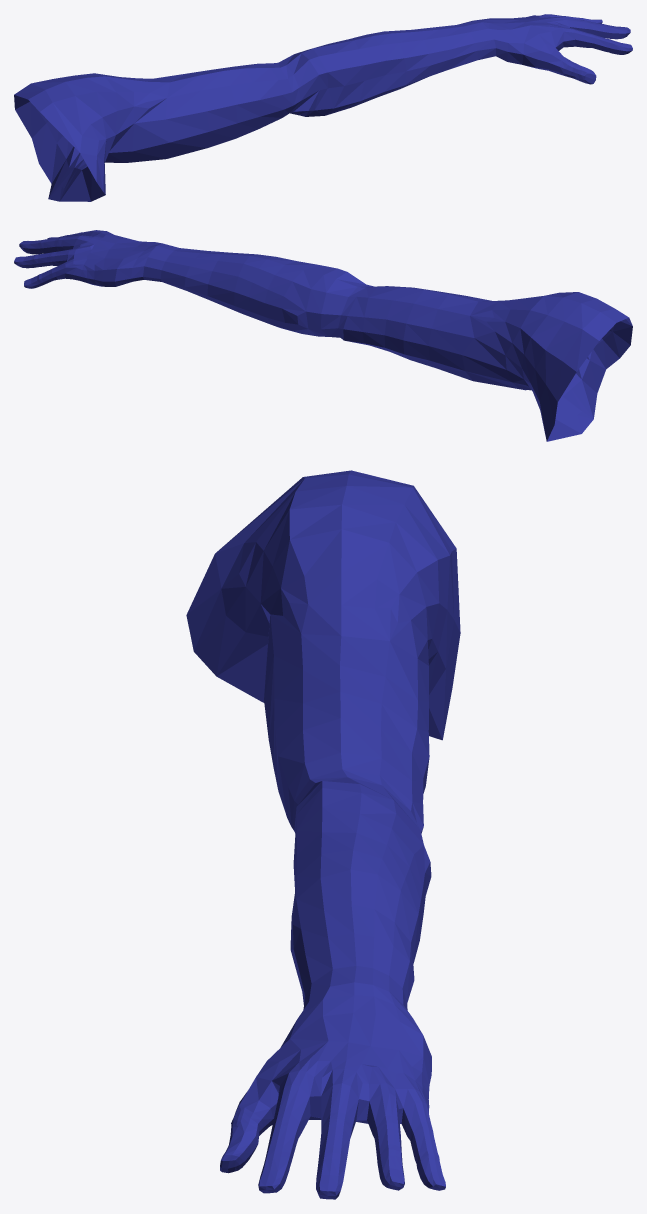
Rendered from arm low poly.obj.
The picture shows the model from 3 angles, top to bottom: view 1: azimuth 30°, elevation 25°; view 2: azimuth 150°, elevation 25°; view 3: azimuth 270°, elevation 25°; orthographic projection. The views are drawn at different scales.
Parts seen in each view (by area): view 1: arm_Cube.002; view 2: arm_Cube.002; view 3: arm_Cube.002.
Part boxes in pixels (left/top/right/bottom): arm_Cube.002: left=14, top=14, right=632, bottom=201; arm_Cube.002: left=14, top=230, right=632, bottom=441; arm_Cube.002: left=186, top=470, right=460, bottom=1199.
Bounding box in the file's own units: 3.87 × 0.76 × 0.772.
